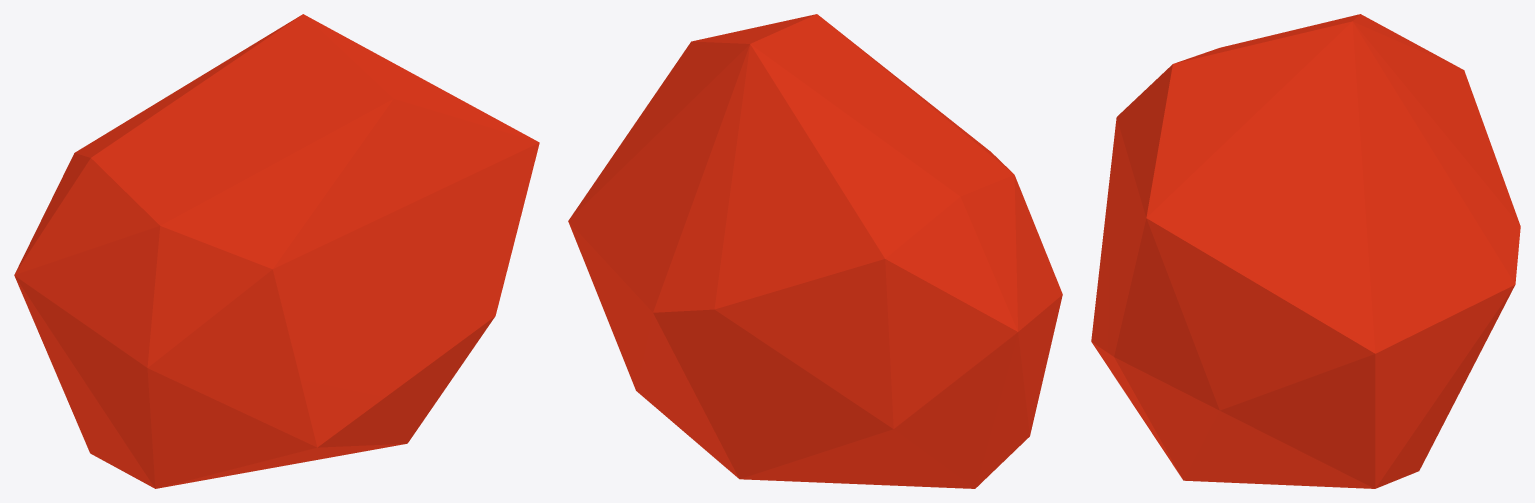
The model's file is mining_PP_Gemstone_06_Red.gltf.
3 renders of one model, left to right at view 1: azimuth 30°, elevation 25°; view 2: azimuth 150°, elevation 25°; view 3: azimuth 270°, elevation 25°, orthographic. The views are drawn at different scales.
Parts seen in each view (by area): view 1: PP_Gemstone_06_Red; view 2: PP_Gemstone_06_Red; view 3: PP_Gemstone_06_Red.
Boxes of the visible parts, x1=… form: PP_Gemstone_06_Red: x1=14, y1=14, x2=539, y2=488; PP_Gemstone_06_Red: x1=568, y1=14, x2=1062, y2=488; PP_Gemstone_06_Red: x1=1091, y1=14, x2=1520, y2=488.
Size of the model in its own units: 0.4206 by 0.3621 by 0.3063.
Materials: 1 (1 with a texture image).
